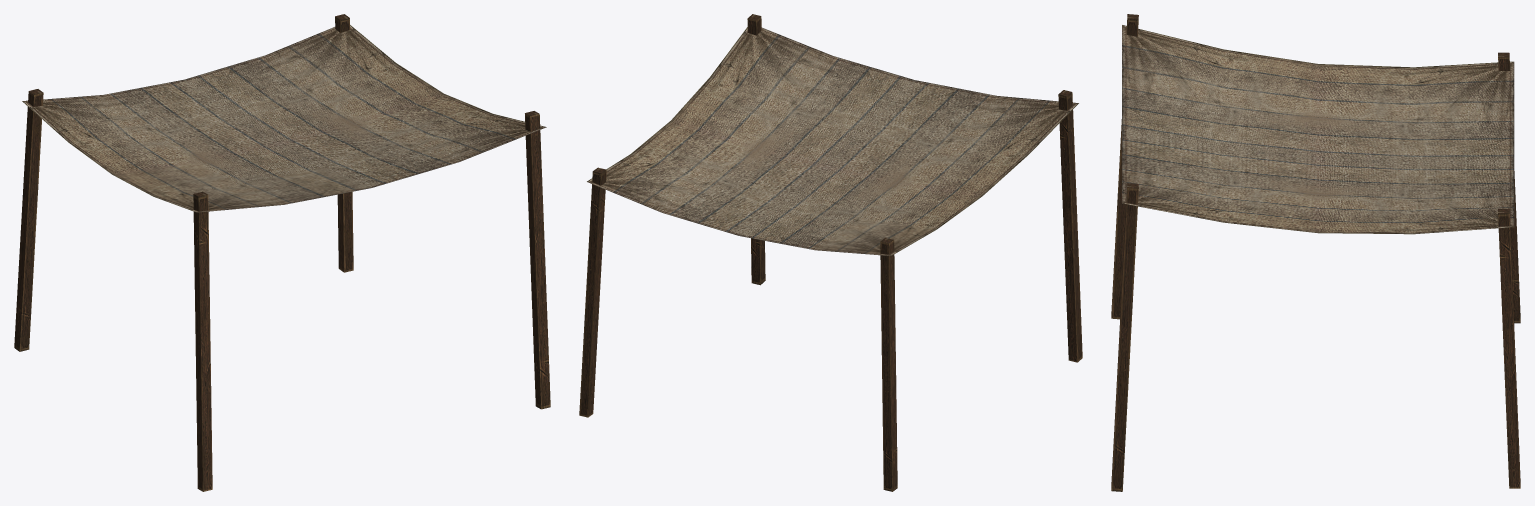
File: Building18_a.FBX
3 renders of one model, left to right at view 1: azimuth 30°, elevation 25°; view 2: azimuth 150°, elevation 25°; view 3: azimuth 270°, elevation 25°, orthographic. The views are drawn at different scales.
Visible parts, largest first — view 1: Building18_a; view 2: Building18_a; view 3: Building18_a.
Boxes of the visible parts, x1,y1,x2,y2 form: Building18_a: (14, 14, 550, 491); Building18_a: (579, 14, 1082, 491); Building18_a: (1111, 14, 1520, 491).
Size of the model in its own units: 371 by 292 by 359.
